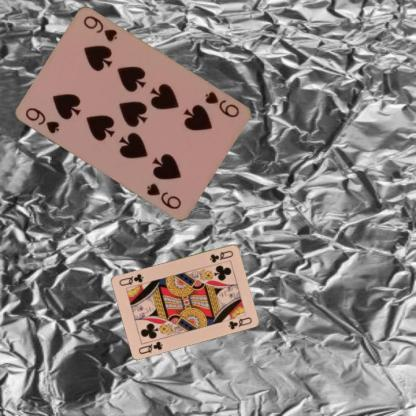9s: (22, 105, 62, 135), (202, 88, 240, 119)
Qc: (136, 338, 164, 356), (208, 248, 235, 263)
